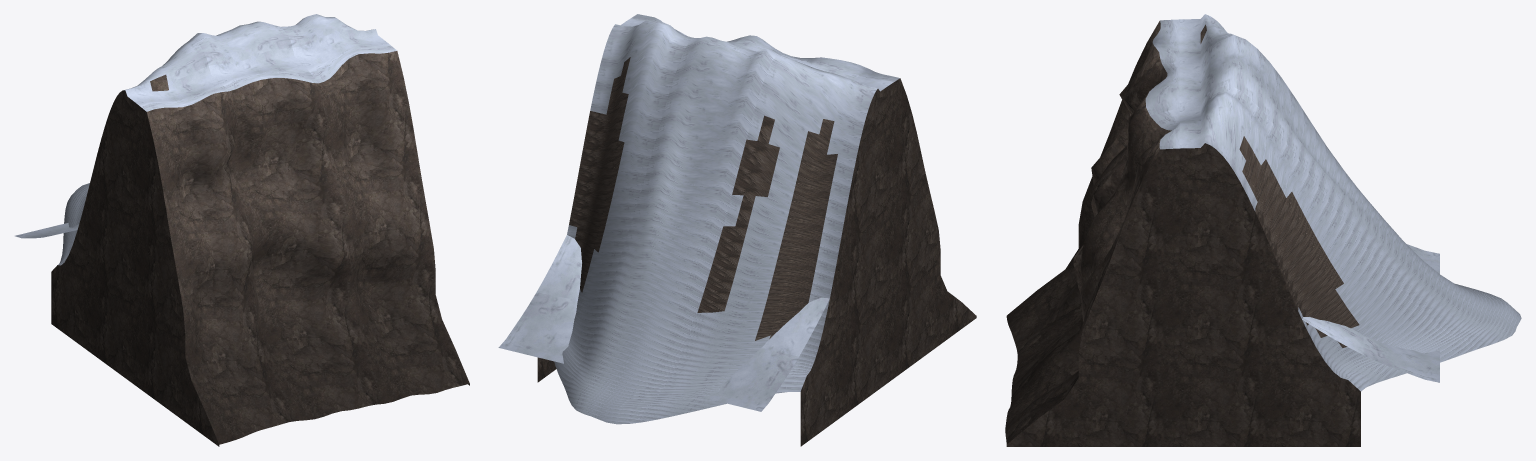
The model's file is seacliff_straight6b_h5_v5_winter.glb.
3 renders of one model, left to right at view 1: azimuth 30°, elevation 25°; view 2: azimuth 150°, elevation 25°; view 3: azimuth 270°, elevation 25°, orthographic. The views are drawn at different scales.
Parts seen in each view (by area): view 1: seacliff_straight6b_h5; view 2: seacliff_straight6b_h5; view 3: seacliff_straight6b_h5.
Boxes of the visible parts, x1,y1,x2,y2 form: seacliff_straight6b_h5: (15, 14, 469, 446); seacliff_straight6b_h5: (498, 14, 976, 446); seacliff_straight6b_h5: (1005, 14, 1521, 446).
Bounding box in the file's own units: 6 × 7.16 × 10.14.
2 materials, 2 textured.
